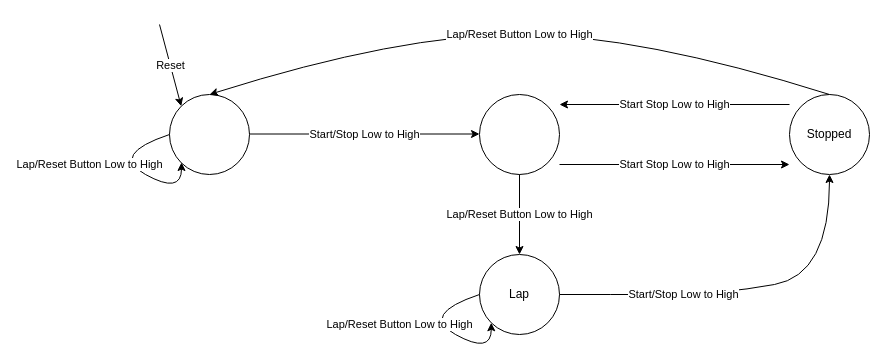
The diagram is 888 pixels wide and 361 high, and some of its shapes have lost their labels. Here are the shapes that lost their labels. From the top down, the centre of each, then its label:
At (x=209, y=134): "Chrono Mode".
At (x=519, y=134): "Counting".
